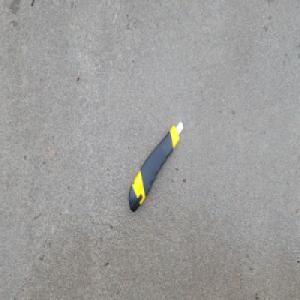Cutter: (128, 119, 184, 213)
